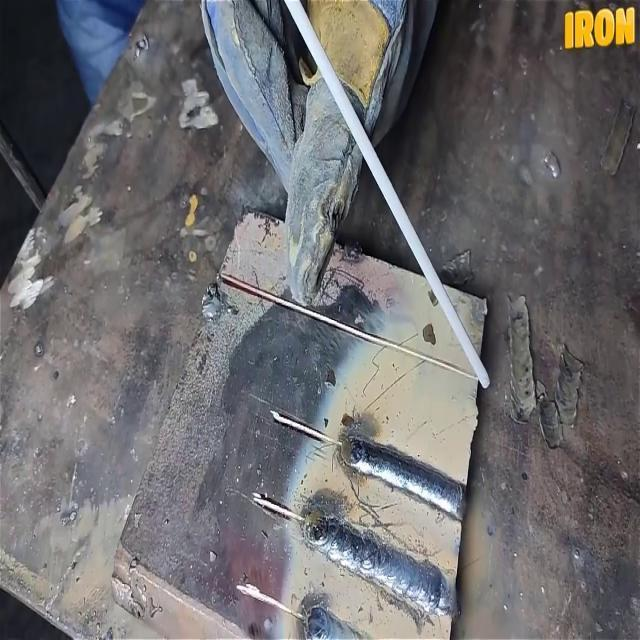Good Welding: (341, 436, 466, 520)
